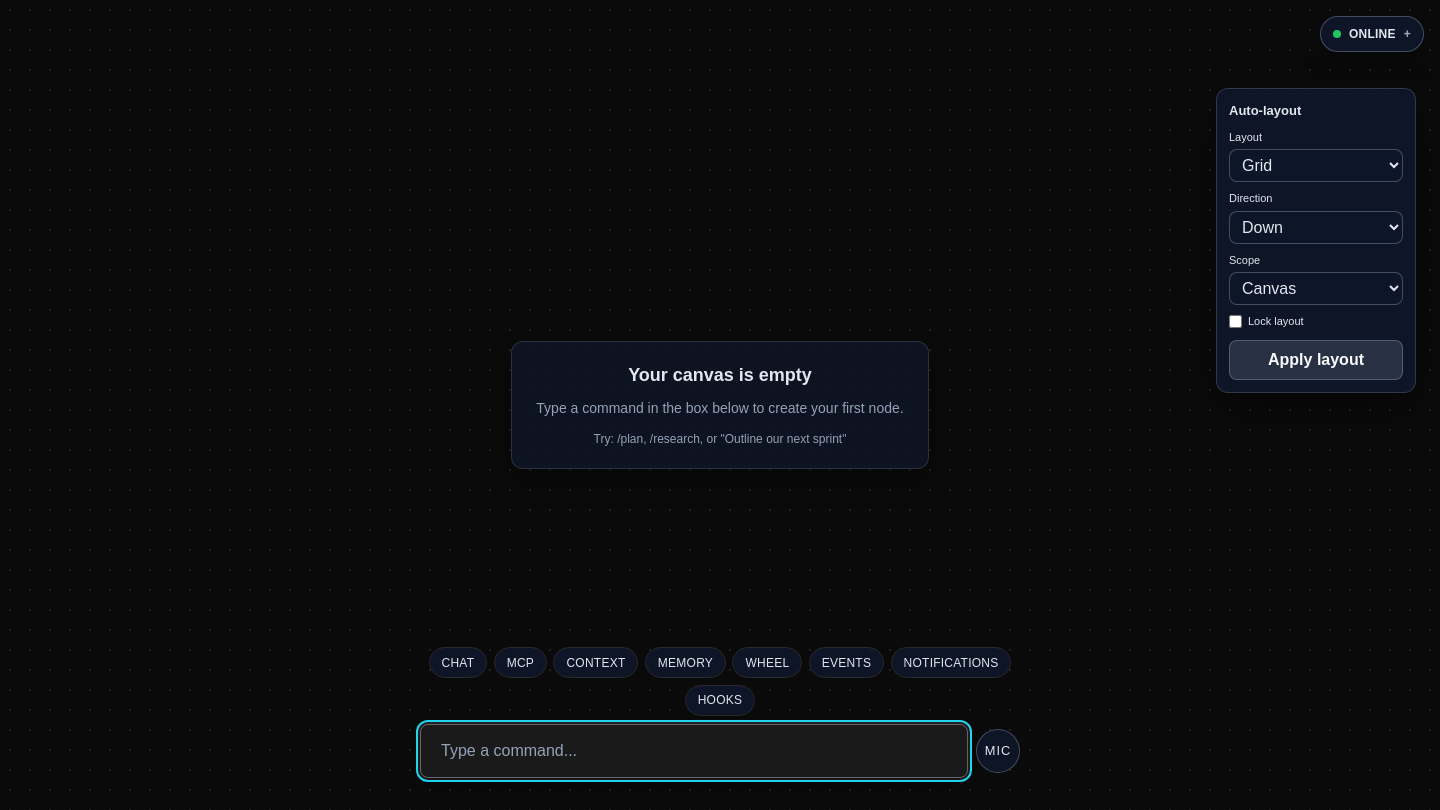
Test case: workspace canvas › opens the chat panel from a show chat command without routing
The width and height of the screenshot is (1440, 810).
Type "show chat" into the field named "command input" at (694, 751), box [420,724,968,778]
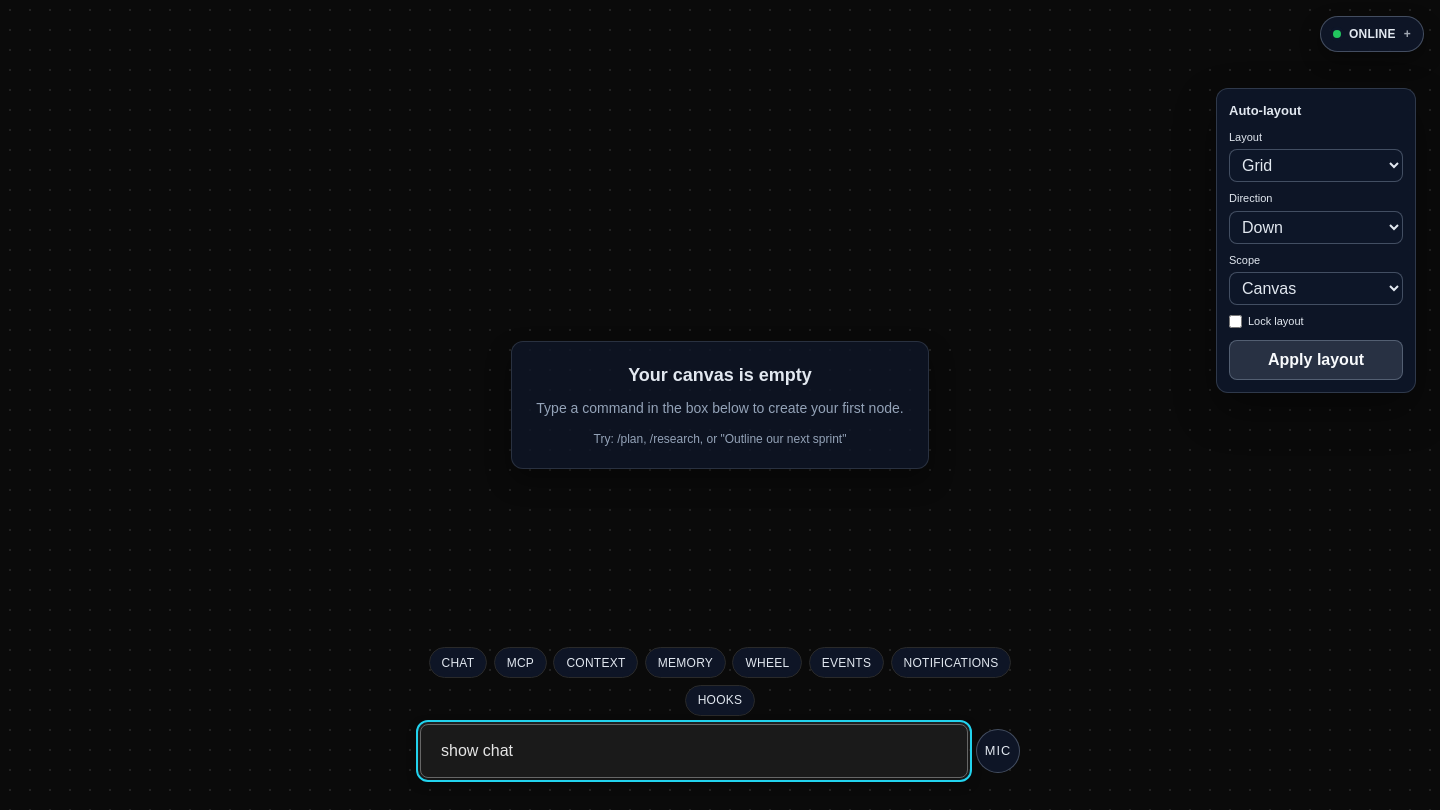
Press Enter in the field named "command input", box [420,724,968,778]
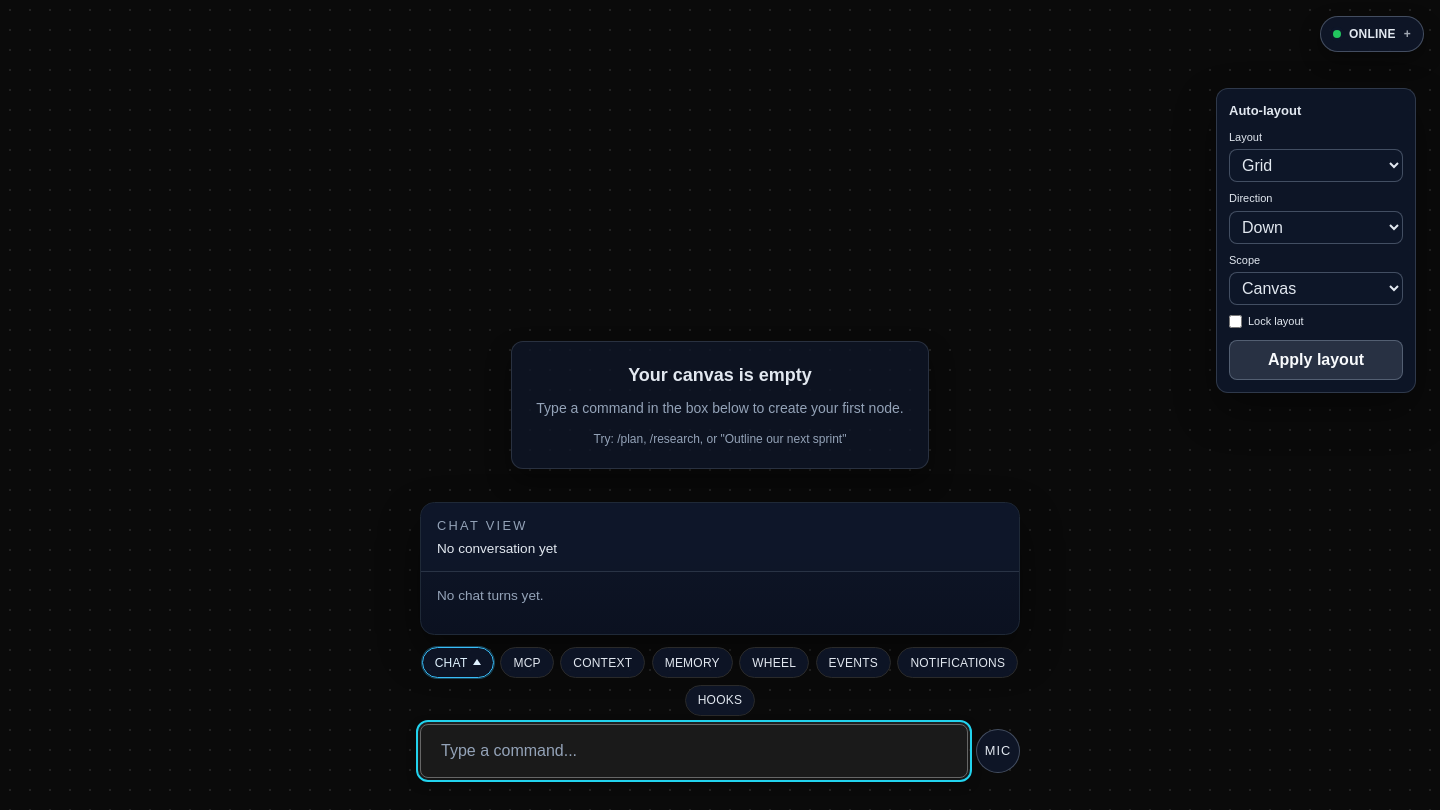
Expected: the text "Chat View" is shown, [437,518,528,534]
